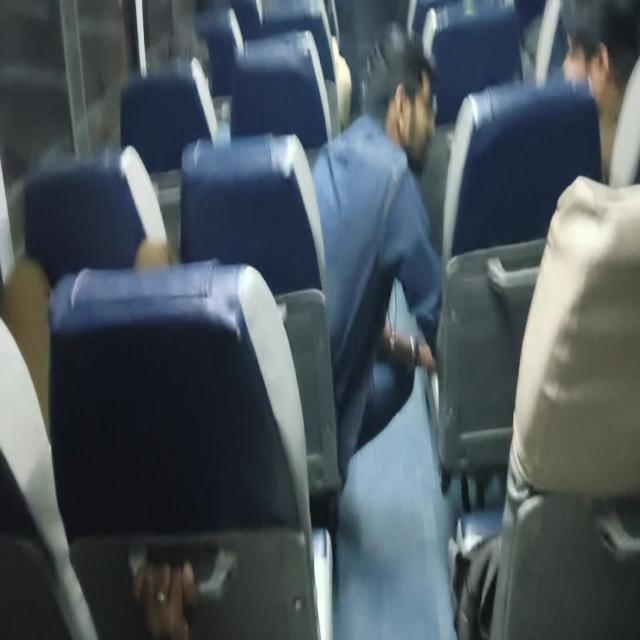person: (310, 43, 442, 480), (560, 0, 639, 184), (130, 546, 202, 638)
